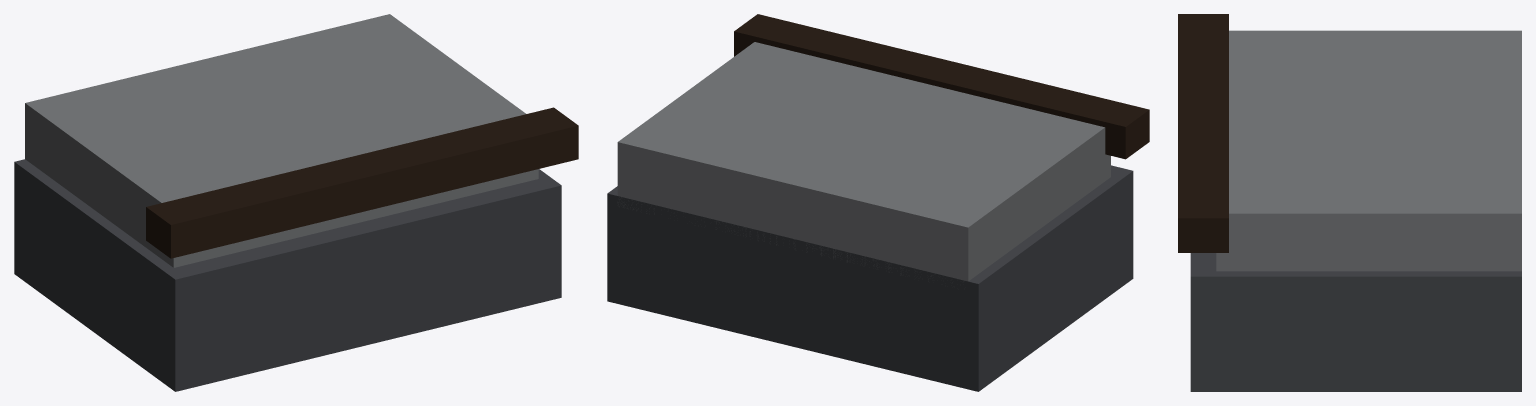
File: mail_chausses.glb
3 renders of one model, left to right at view 1: azimuth 30°, elevation 25°; view 2: azimuth 150°, elevation 25°; view 3: azimuth 270°, elevation 25°, orthographic. The views are drawn at different scales.
Visible parts, largest first — view 1: MailChausses; view 2: MailChausses; view 3: MailChausses.
Boxes of the visible parts, x1,y1,x2,y2 form: MailChausses: (14, 14, 578, 391); MailChausses: (607, 14, 1149, 391); MailChausses: (1178, 14, 1521, 391).
Size of the model in its own units: 0.38 by 0.155 by 0.27.
